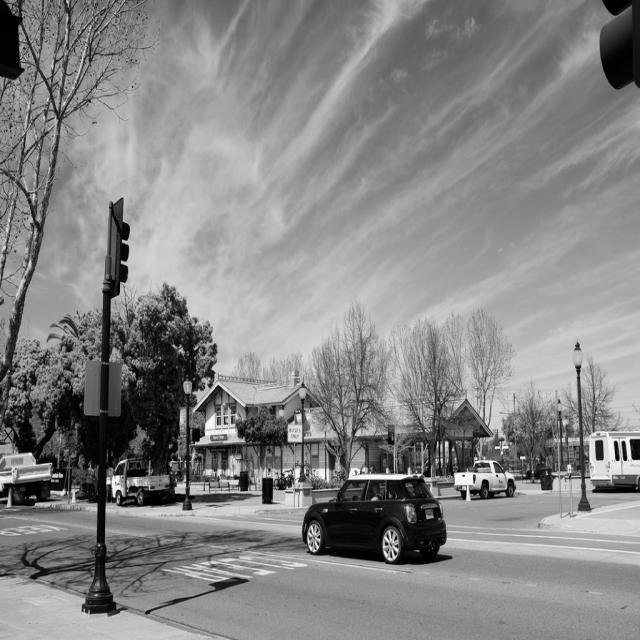off traffic light: (114, 210, 136, 280)
